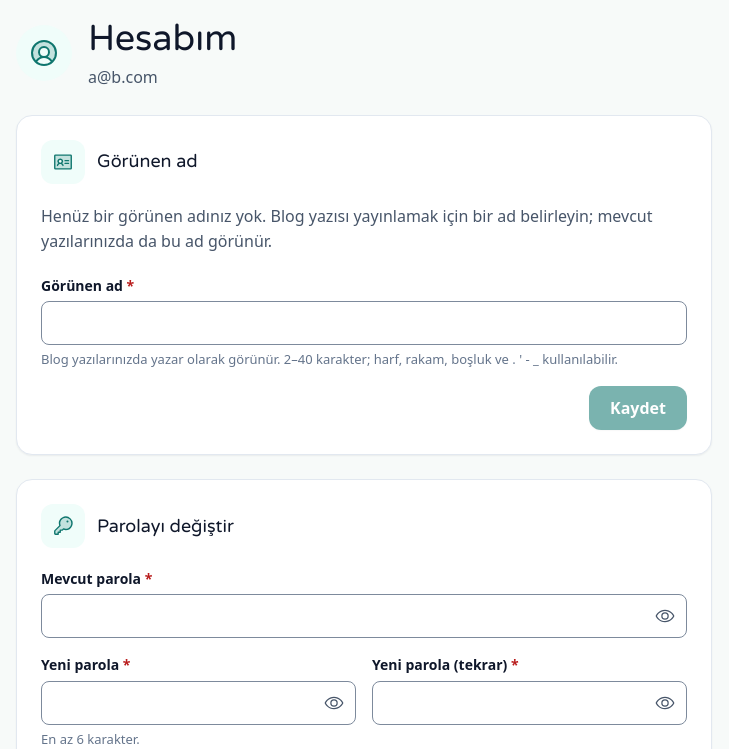
Test: Account › an account without a display name is asked to set one
This screenshot has width=729, height=749.
Expected: the heading "Hesabım" is shown, [88, 16, 237, 61]
Expected: the text "Henüz bir görünen adınız yok" is shown, [41, 205, 652, 252]
Type "  Tolga   Arslan " into the field labelled "Görünen ad *". click: {"x": 364, "y": 323}
box: [41, 301, 687, 345]
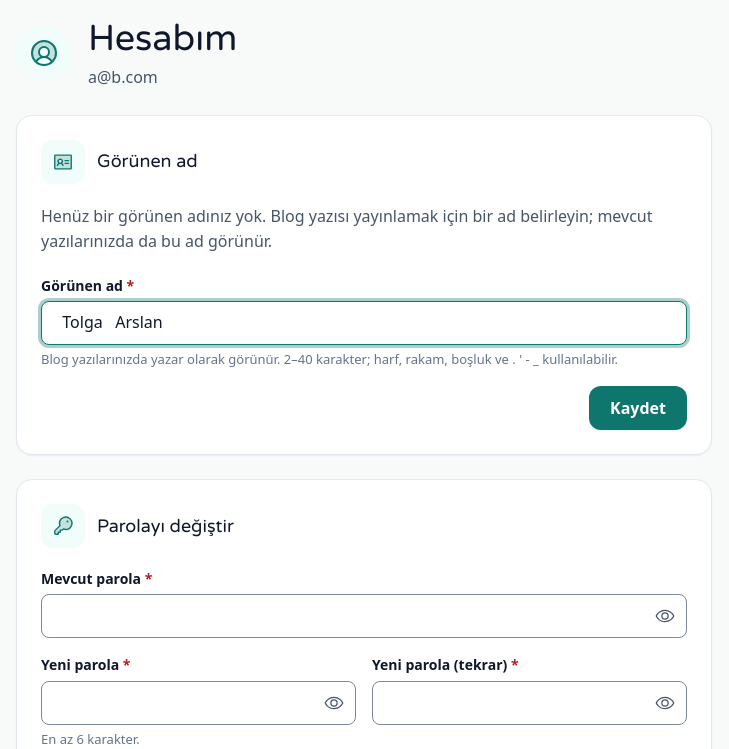
Click the button "Kaydet". click: {"x": 638, "y": 408}
box: [589, 386, 687, 430]
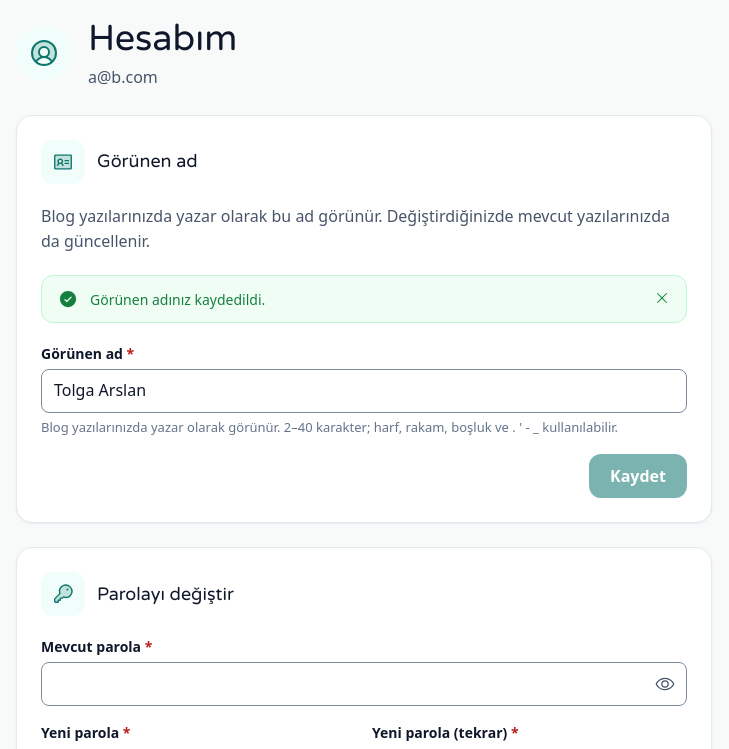
Expected: the text "Görünen adınız kaydedildi." is shown, [90, 290, 265, 309]
Expected: the button "Kaydet" is disabled, [589, 454, 687, 498]
